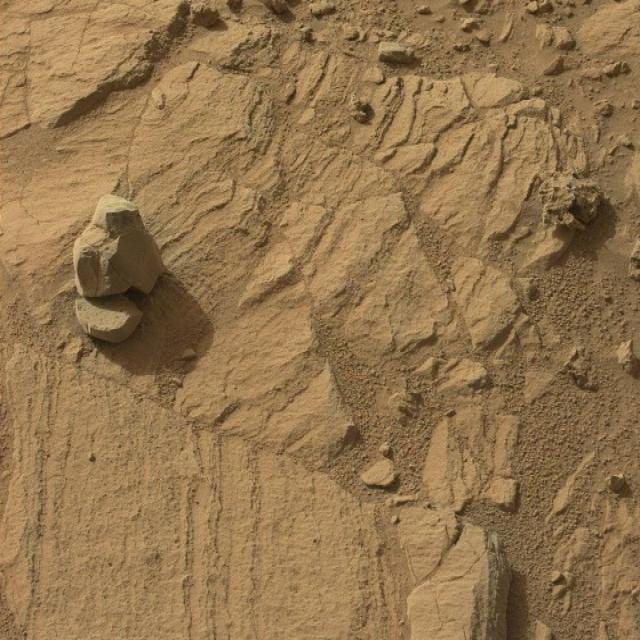mars-rocks: (73, 194, 165, 298), (75, 295, 143, 344)
